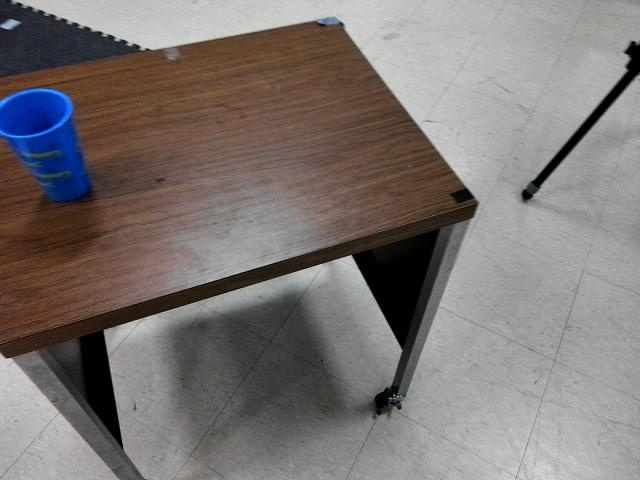water_cup: (1, 74, 92, 217)
